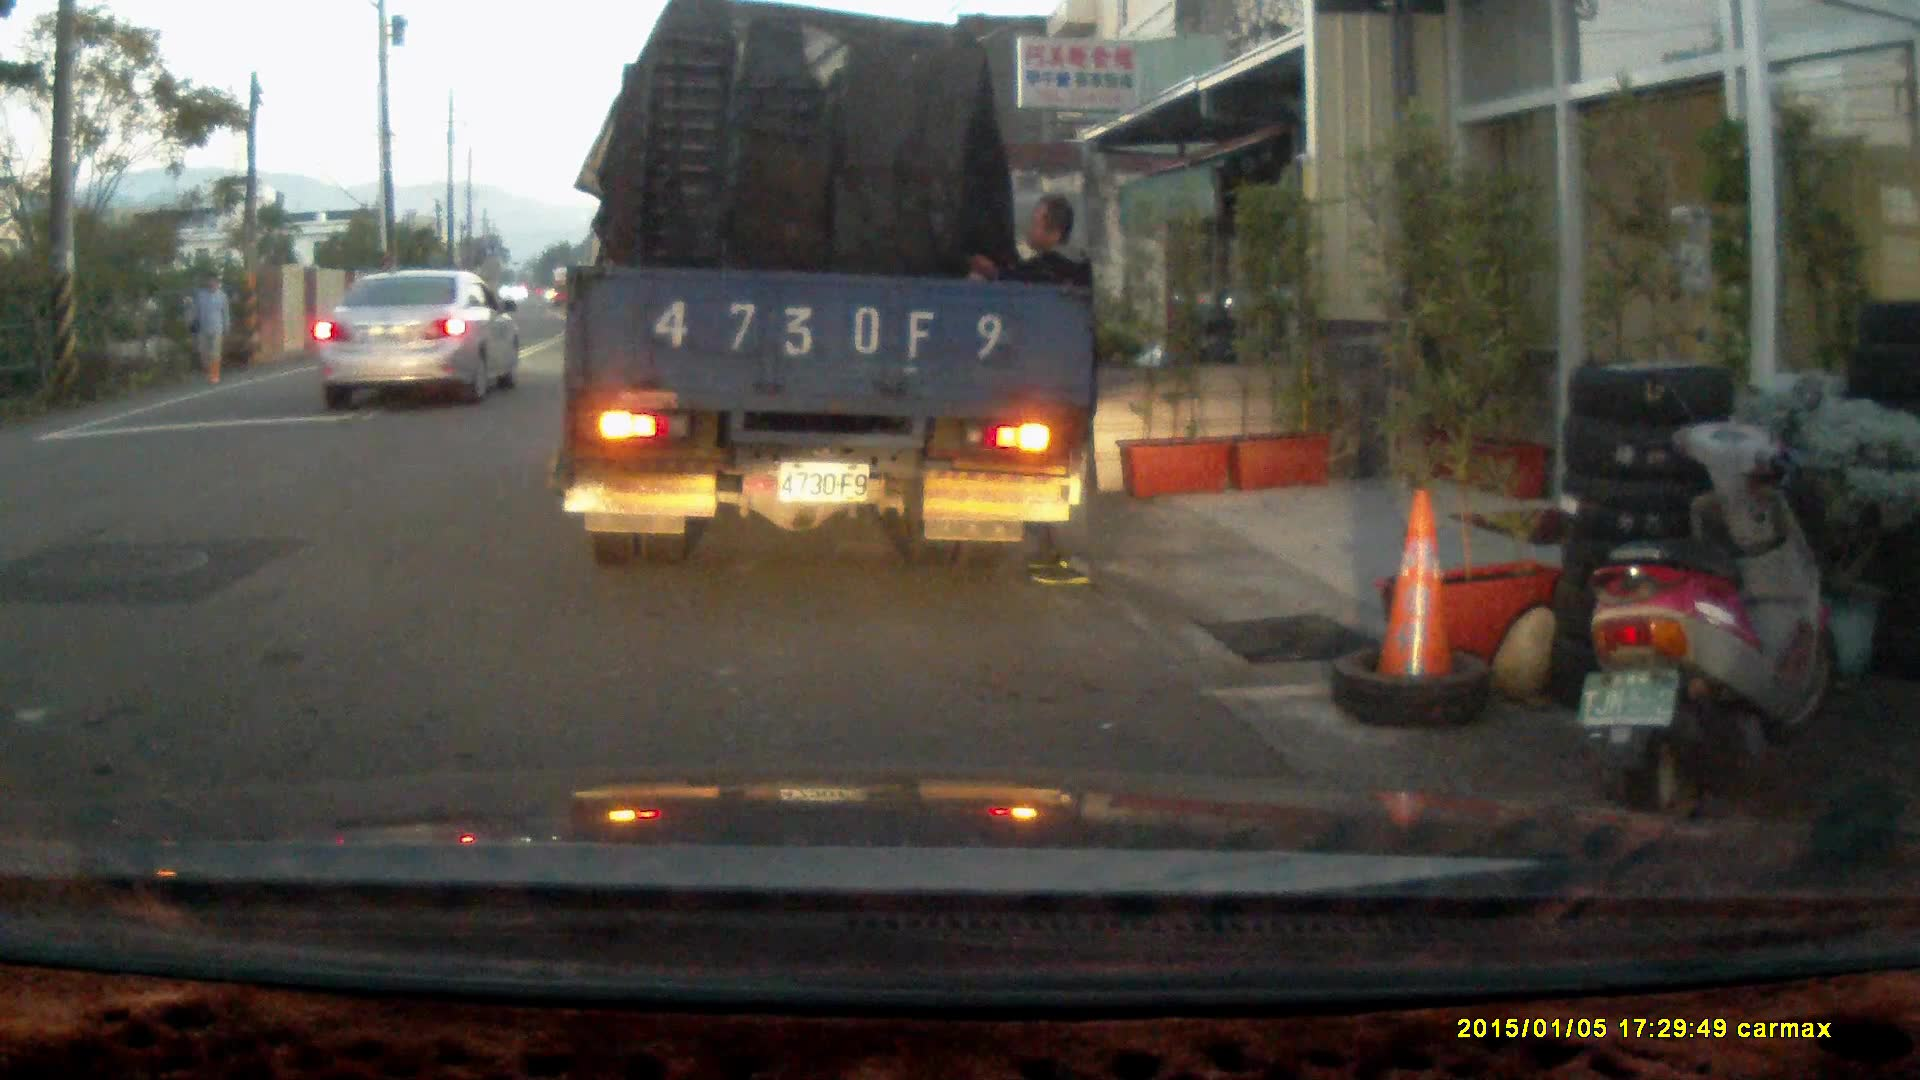pedestrian: (956, 194, 1099, 587), (187, 272, 231, 387)
vehicle: (565, 23, 1097, 572), (317, 268, 528, 409)
